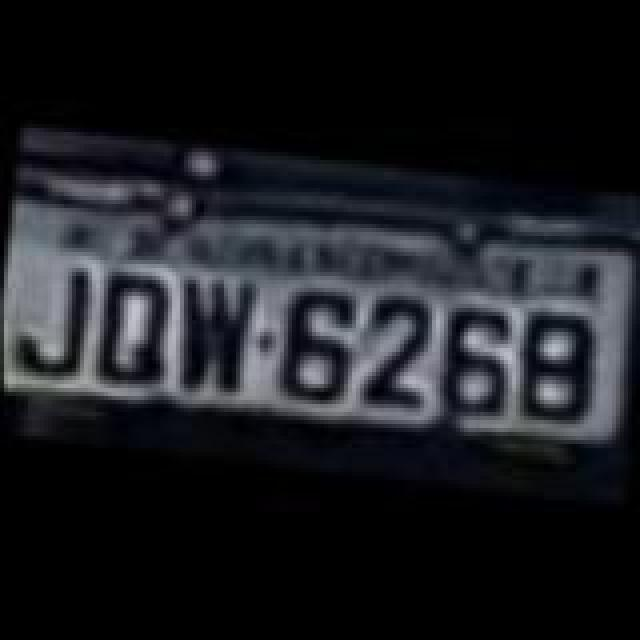2: (346, 294, 442, 418)
6: (274, 288, 370, 412), (428, 300, 520, 428)
8: (512, 306, 608, 438)
J: (12, 260, 104, 388)
Q: (92, 270, 184, 394)
W: (168, 268, 268, 404)
